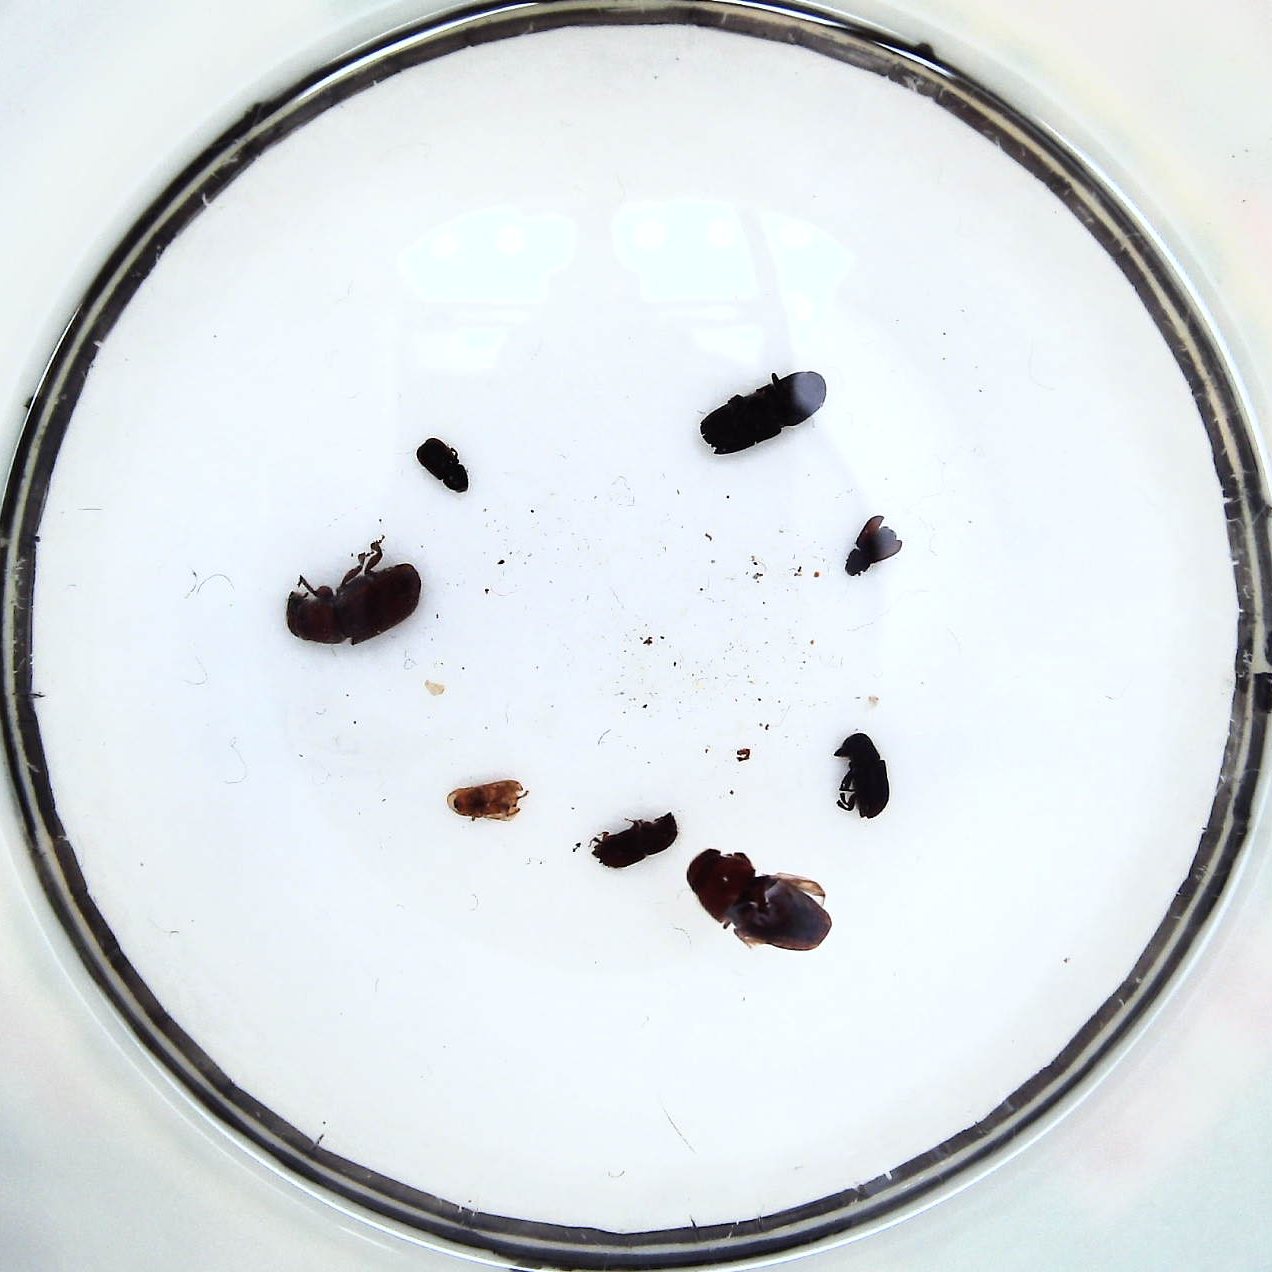Boerner: (698, 370, 826, 455)
Leconte: (686, 847, 832, 951), (287, 561, 421, 645)
acuminatus: (846, 515, 902, 577), (416, 437, 468, 492)
armandi: (834, 734, 890, 820)
coleoptera: (447, 780, 528, 820)
linnaeus: (591, 810, 678, 868)
